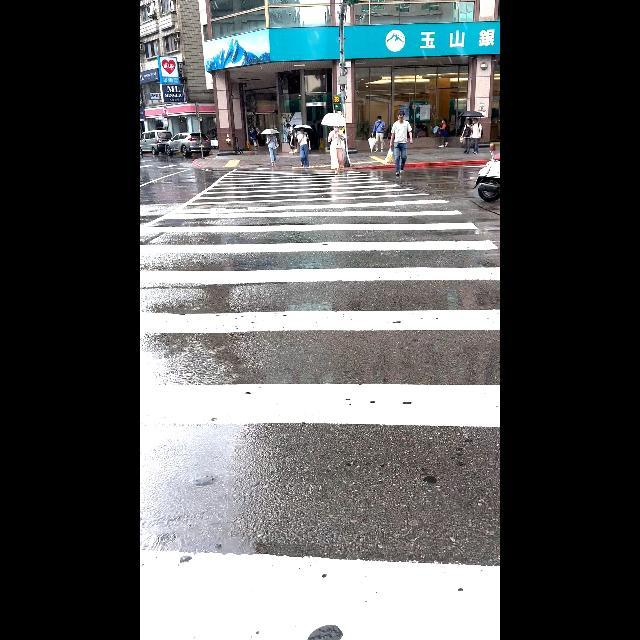sidewalk: (140, 168, 499, 639)
